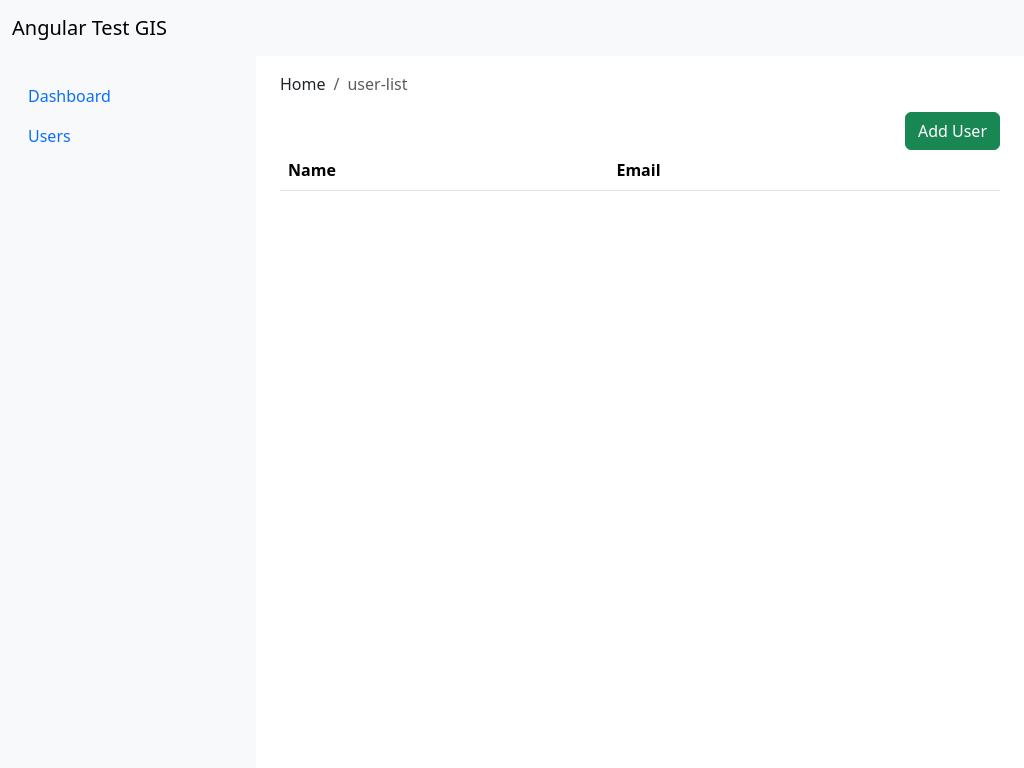
Test: User Management › should display error hint when add
Note: Klik tombol tambah user
Click the button "Add User": (953, 131) [905,112,1000,150]
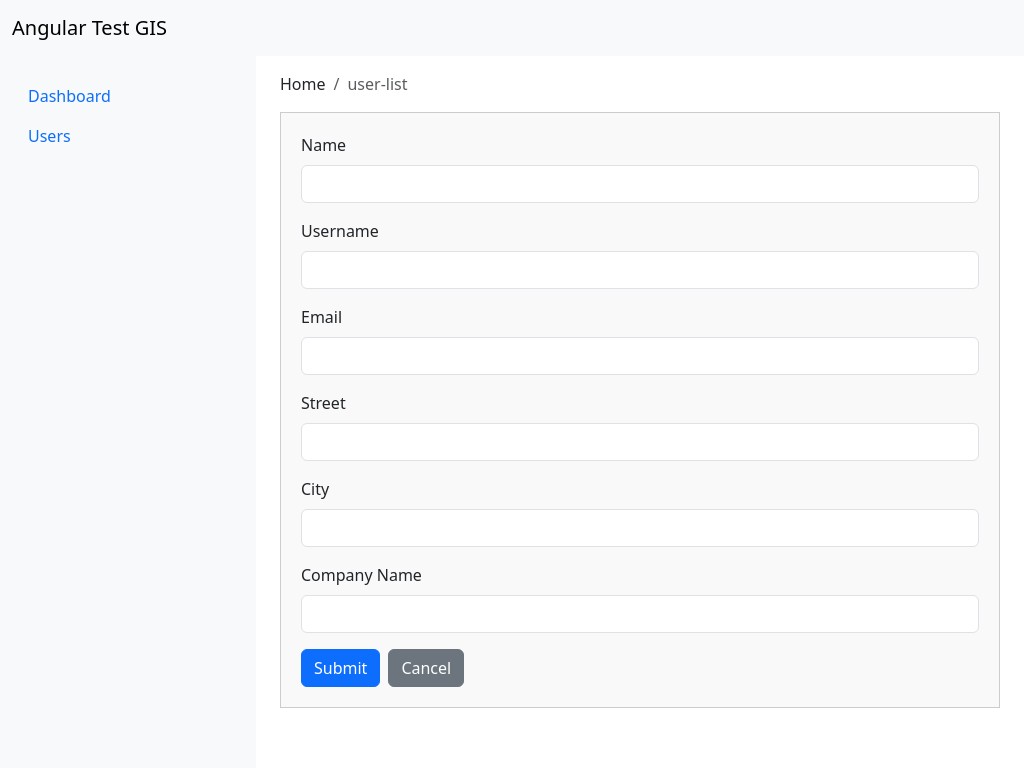
Expected: the table is gone
Expected: the form is shown, [301,133,979,687]
Note: Submit form
Click the submit button: (341, 668) [301,649,380,687]
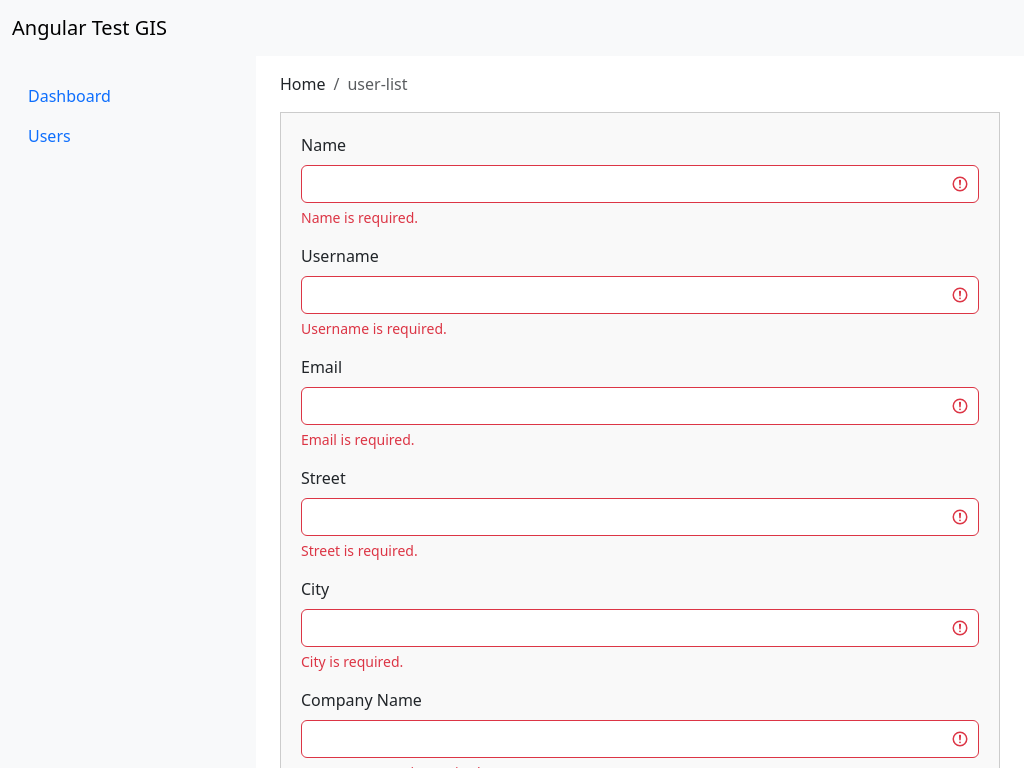
Expected: the text "Name is required" is shown, [301,208,418,227]
Expected: the text "Username is required" is shown, [301,319,447,338]
Expected: the text "Email is required" is shown, [301,430,415,449]
